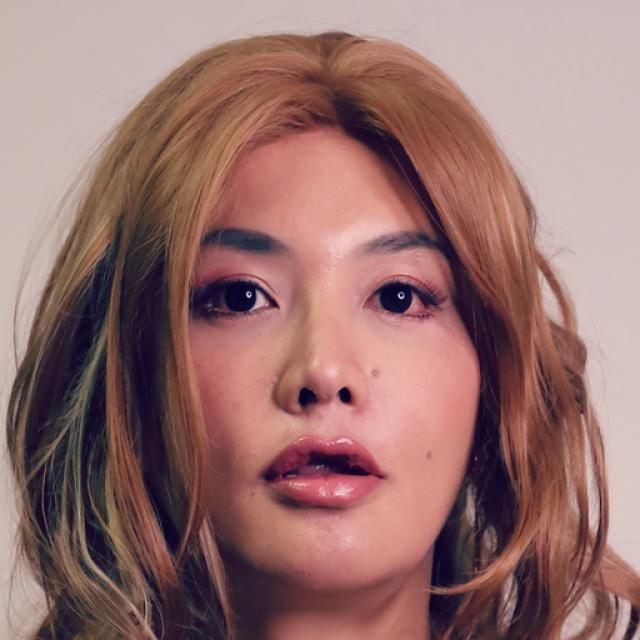Acne: (362, 363, 387, 387)
